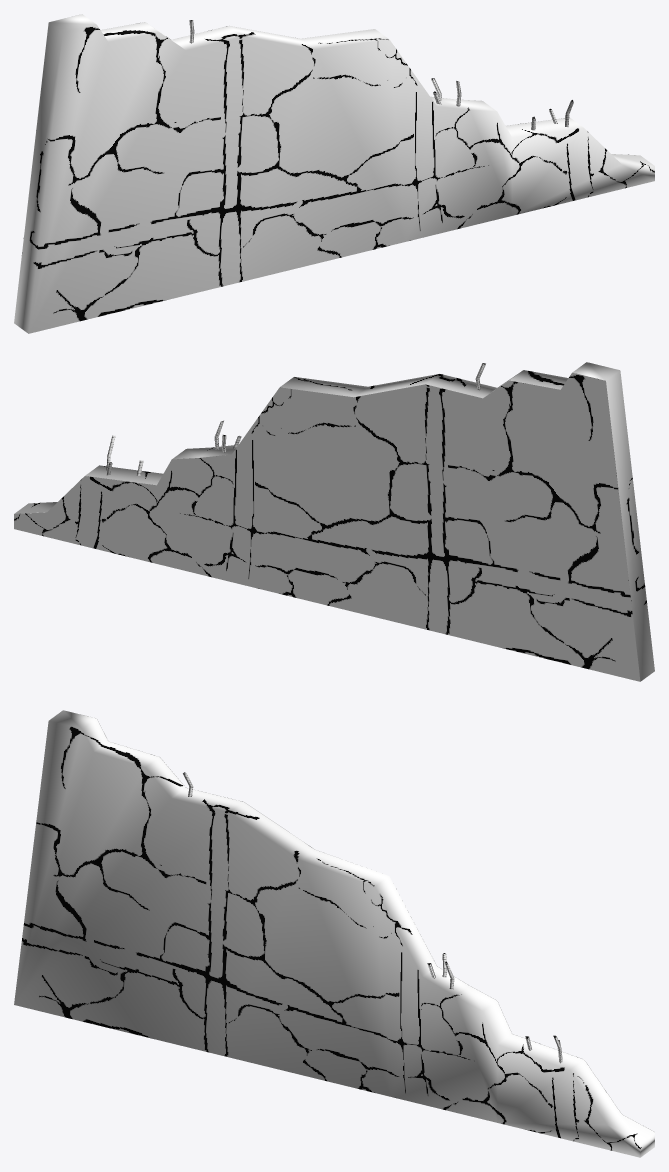
The model's file is Building_02_02.fbx.
3 views of the same model, one above another, from view 1: azimuth 30°, elevation 25°; view 2: azimuth 150°, elevation 25°; view 3: azimuth 330°, elevation 25° (orthographic).
Visible parts, largest first — view 1: Building_02_02; view 2: Building_02_02; view 3: Building_02_02.
Boxes of the visible parts, <box> form: Building_02_02: <box>14,14,654,333</box>; Building_02_02: <box>14,362,654,681</box>; Building_02_02: <box>14,710,654,1157</box>.
Size of the model in its own units: 26.17 by 11.68 by 1.21.
